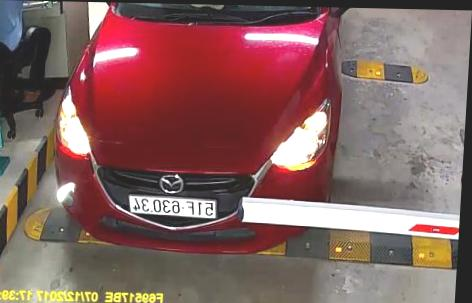License_Plate: (123, 190, 221, 221)
